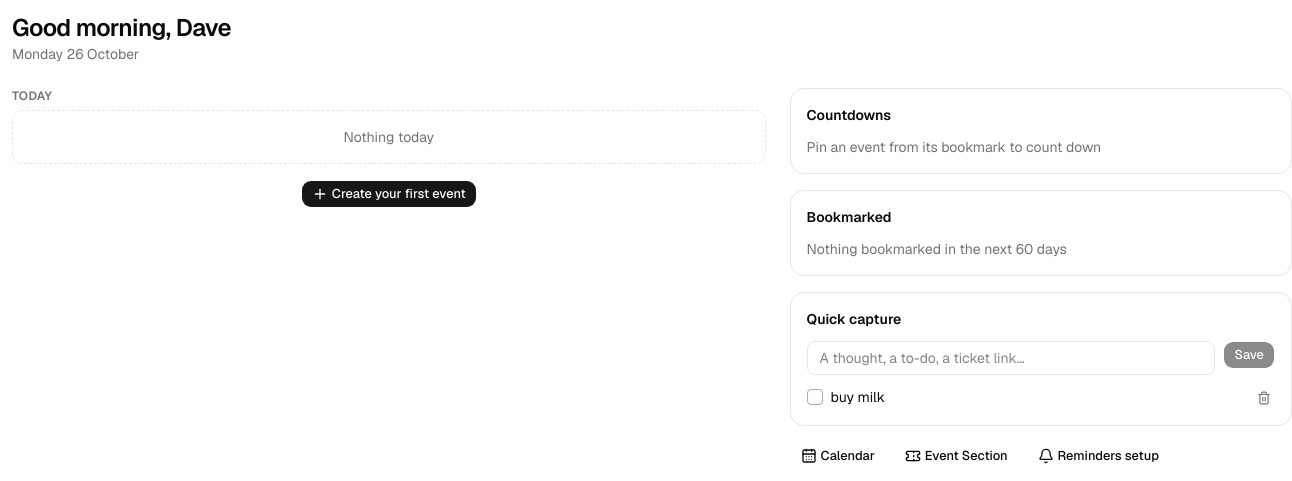
Test: HomeDashboard › checks off a note
Click the button named "Mark done: buy milk" at (815, 397), box [807,389,823,405]
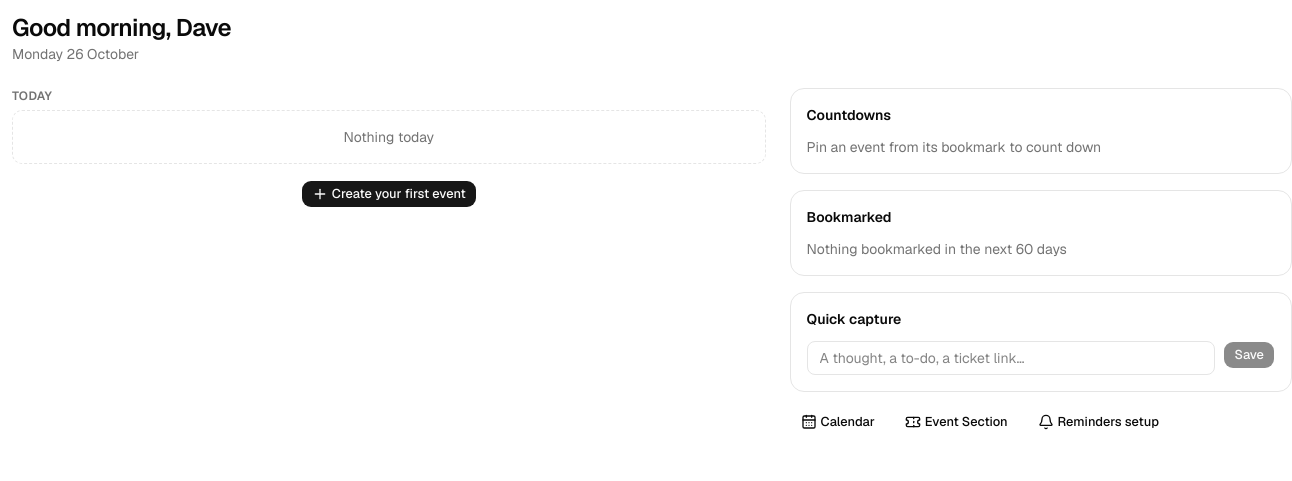
Expected: the text "buy milk" is gone
